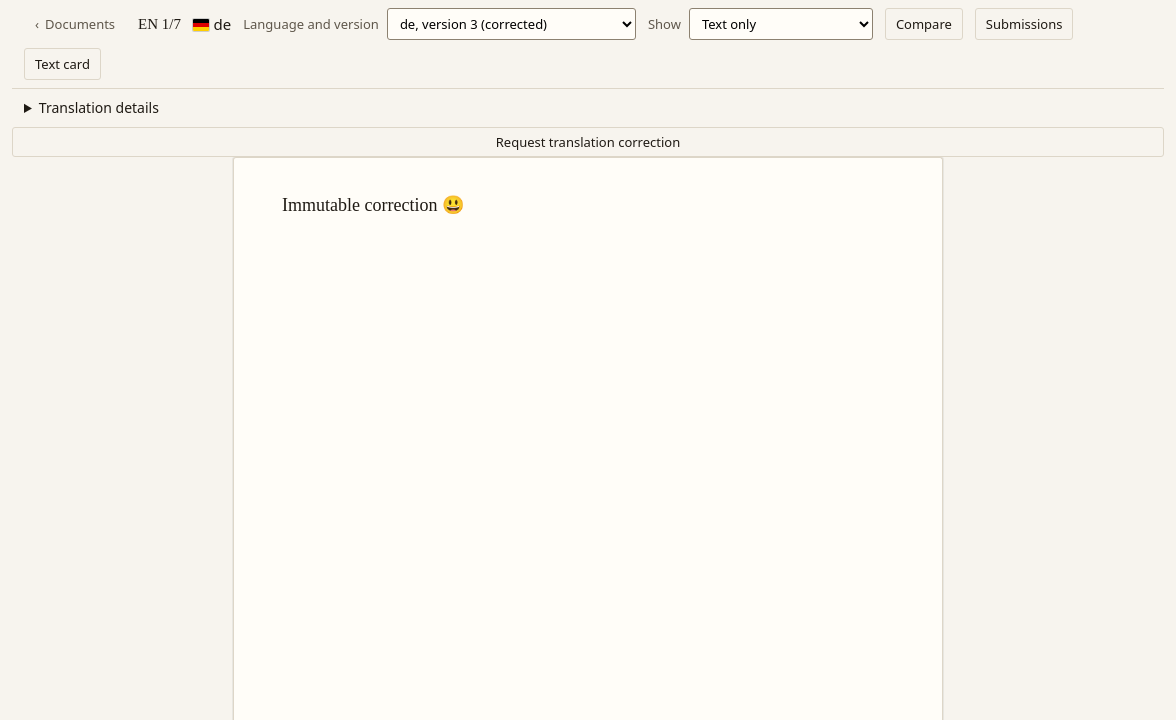
labels correction-run checks as inherited from the actual translation ancestor
Expected: the text "Immutable correction 😃" is shown, [282,195,464,215]
What coordinates should you click on to do the following:
click the heading "Translation details"
I would click on:
 (99, 108)
Its box is [39,98,159,117].
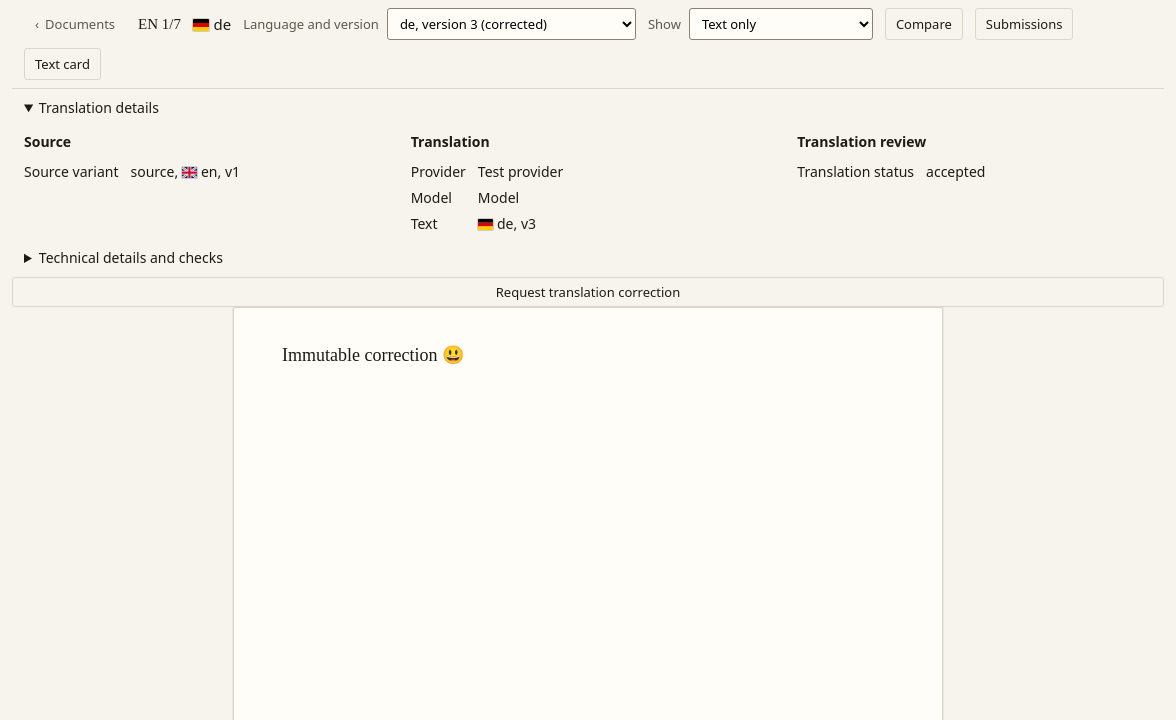
Result: the heading "Source" is shown at [24,132,71,151]
Result: the heading "Translation" is shown at [411,132,490,151]
Result: the heading "Translation review" is shown at [797,132,926,151]
